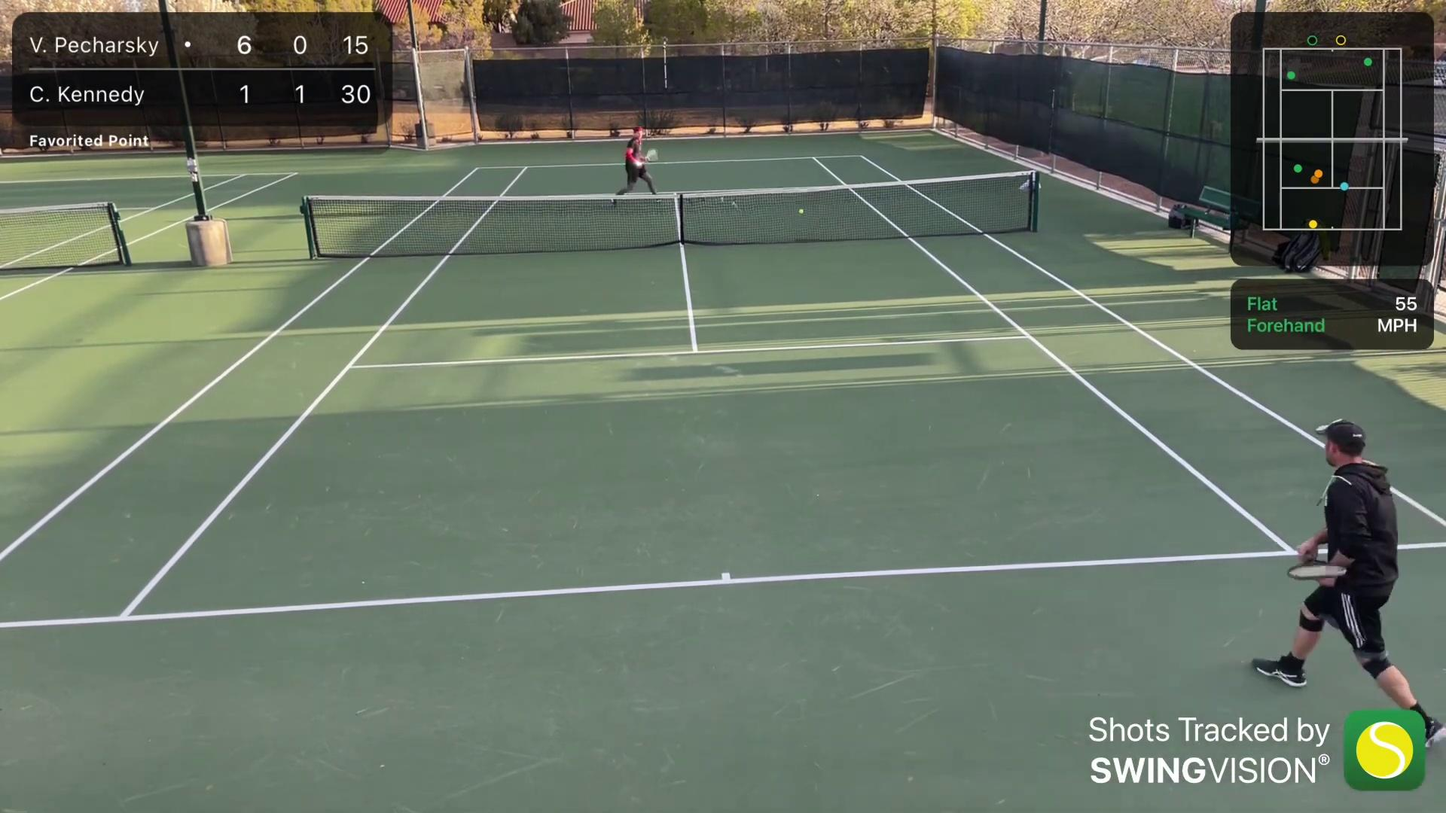ball: (796, 209, 803, 215)
